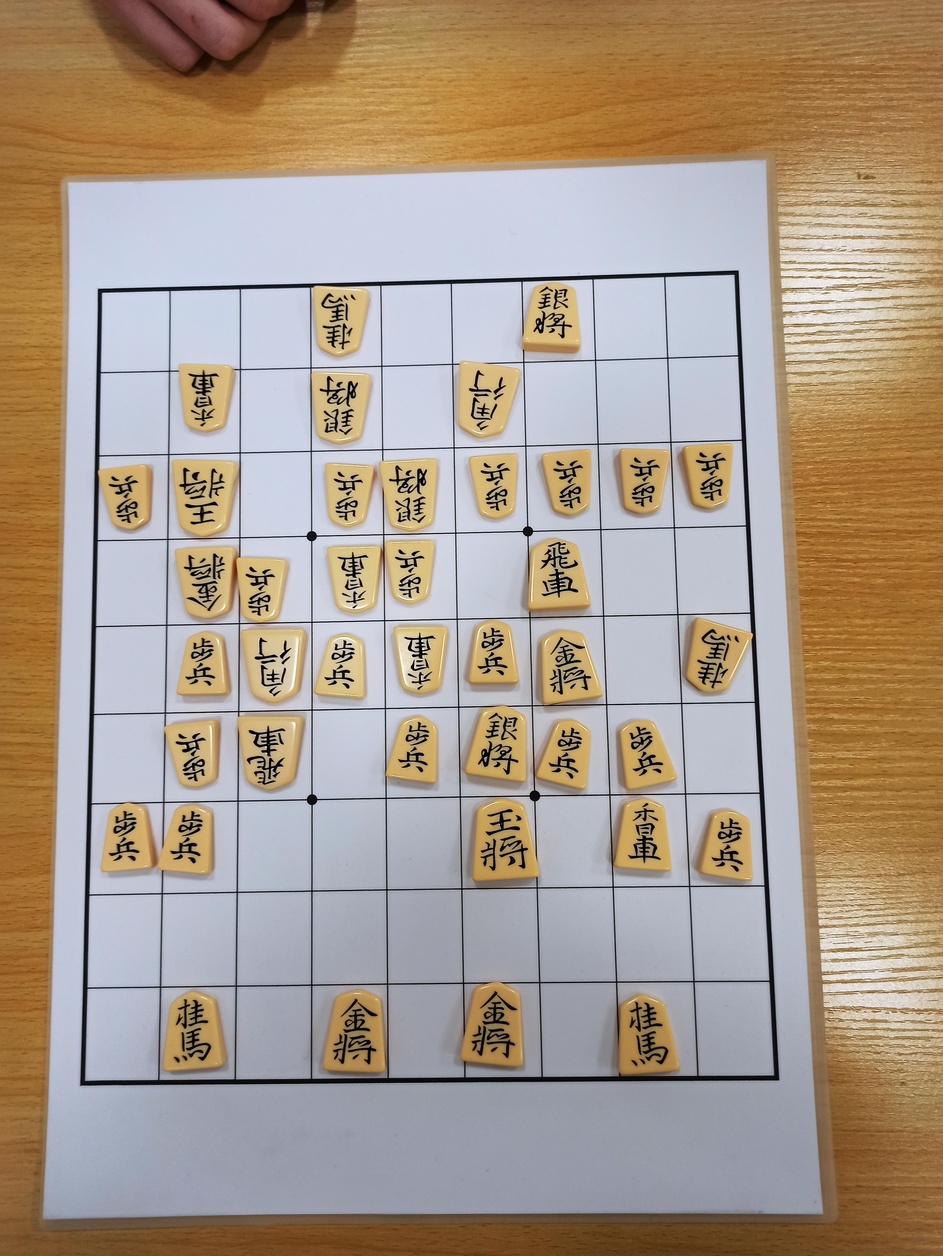board: (82, 274, 777, 1081)
